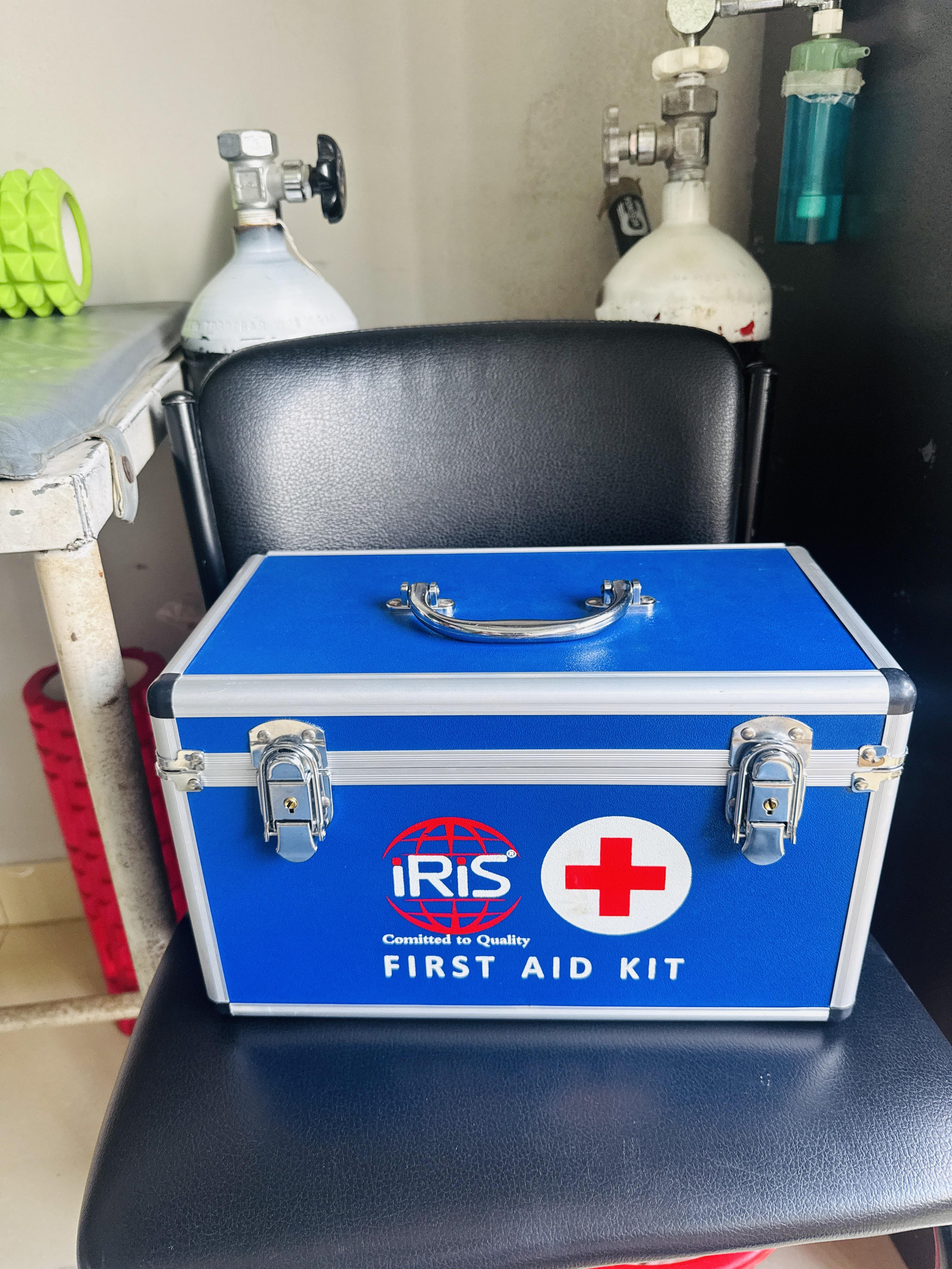FirstAidBox: (135, 516, 927, 1043)
